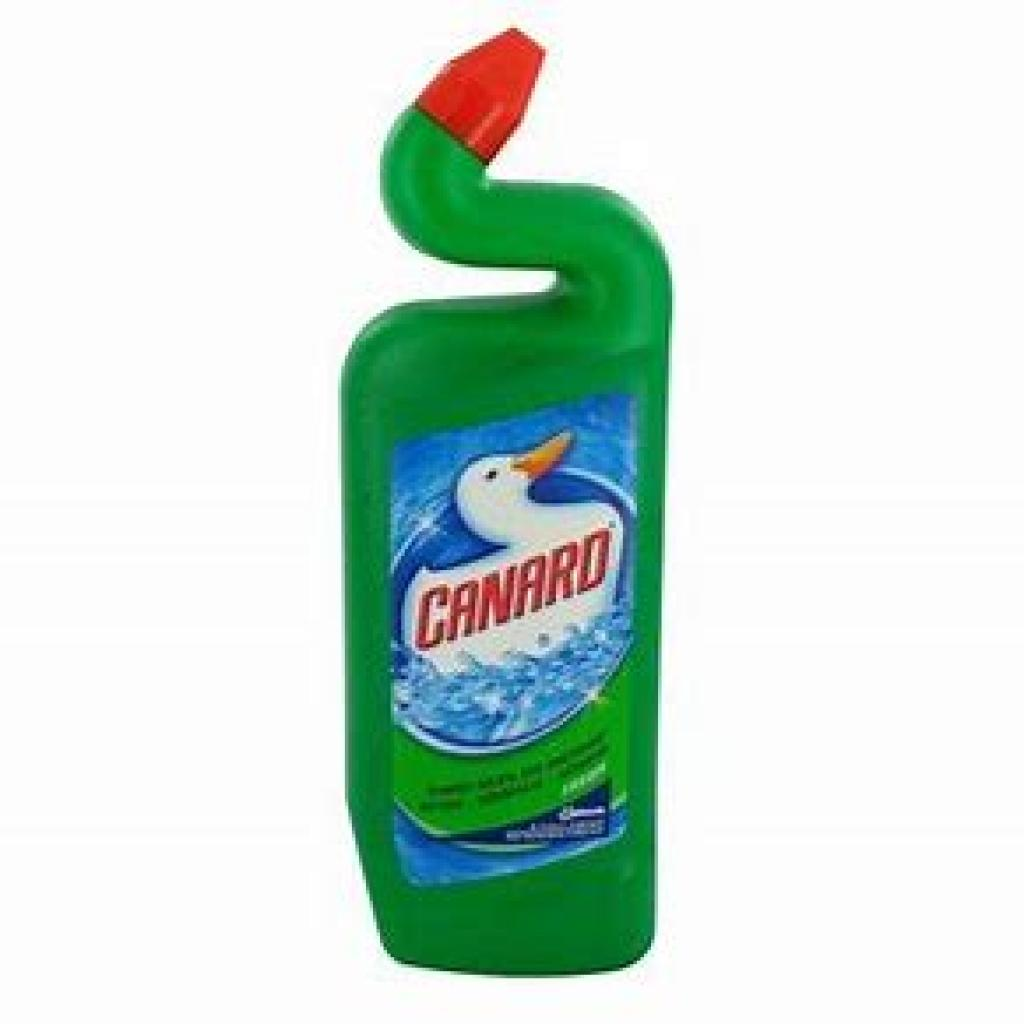plastic: (311, 10, 683, 998)
